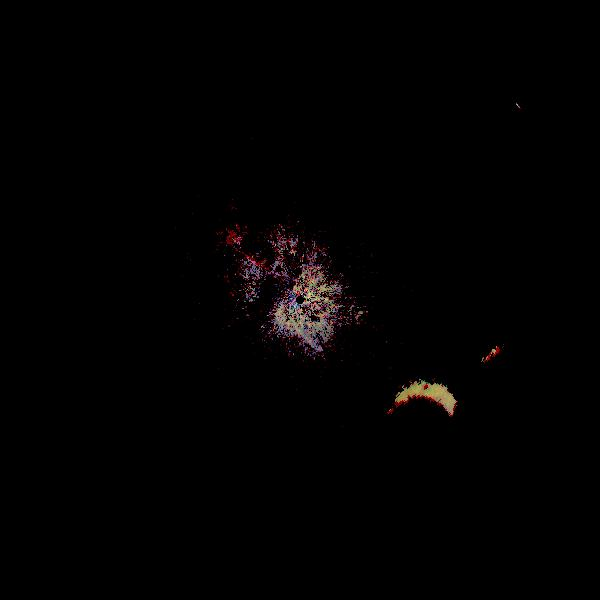roost: (460, 325, 580, 445), (374, 371, 479, 476)
